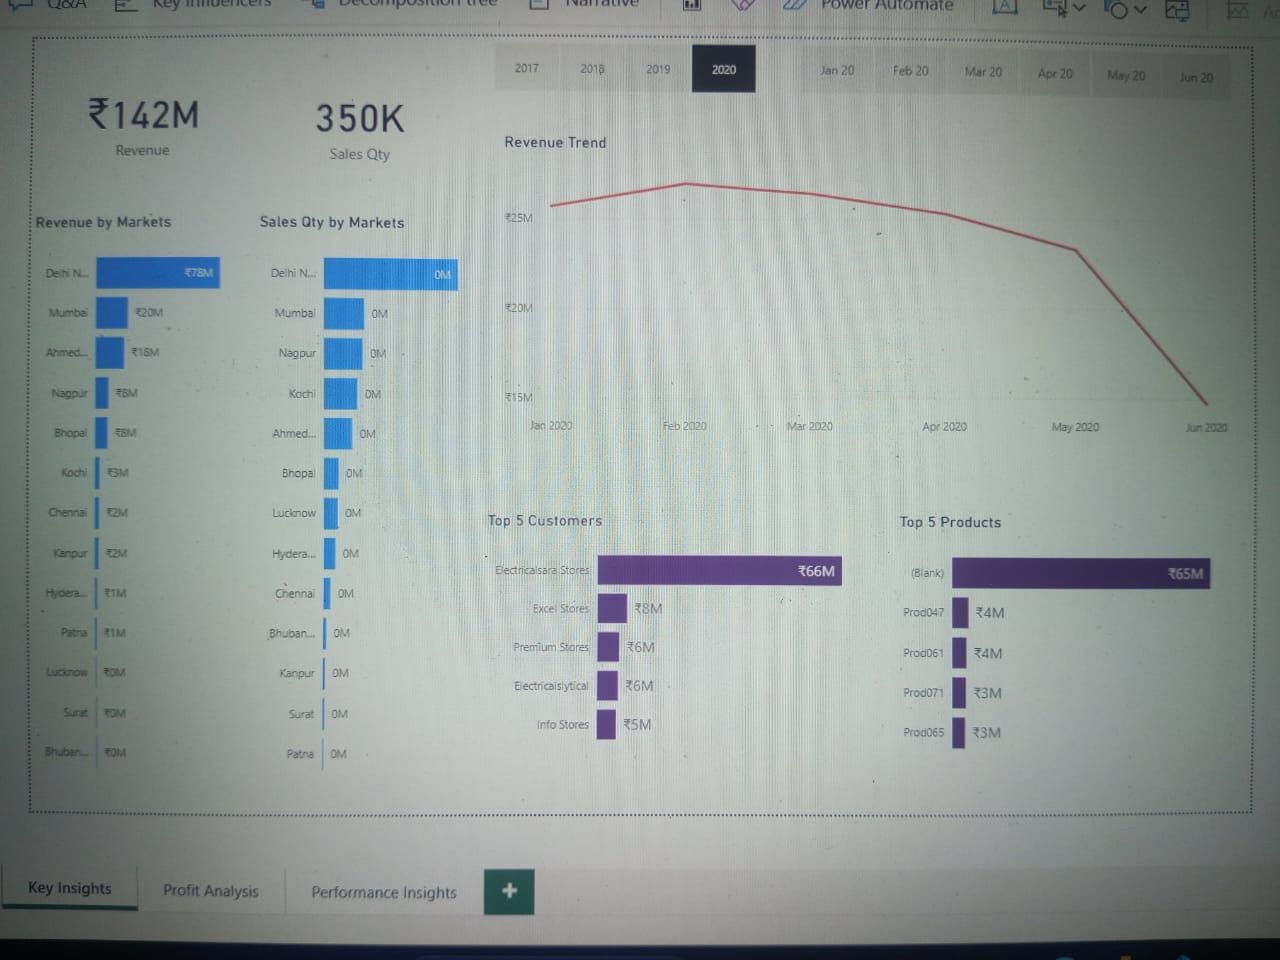

This screenshot's page, from the dashboard's own definition file:
{"tool":"powerbi","page":{"name":"Key Insights","canvas":[1350,850],"ordinal":0},"visuals":[{"type":"card","fields":{"Values":["BaseMeasures (2).Revenue"]},"box":[0,0,247.9,184.6],"z":0},{"type":"card","fields":{"Values":["BaseMeasures (2).Sales Qty"]},"box":[247.9,0,227.9,193.1],"z":1000},{"type":"barChart","title":"Revenue by Markets","fields":{"Y":["BaseMeasures (2).Revenue"],"Category":["sales markets.markets_name"]},"box":[0,193.1,247.9,631.9],"z":2000},{"type":"barChart","title":"Sales Qty by Markets","fields":{"Y":["BaseMeasures (2).Sales Qty"],"Category":["sales markets.markets_name"]},"box":[247.9,193.1,247.9,631.9],"z":3000},{"type":"slicer","fields":{"Values":["sales date.year"]},"box":[483.2,0,335.5,66.5],"z":4000},{"type":"slicer","fields":{"Values":["sales date.cy_date"]},"box":[818.6,0,531.7,66.5],"z":5000},{"type":"barChart","title":"Top 5 Customers","fields":{"Y":["BaseMeasures (2).Revenue"],"Category":["sales customers.custmer_name"]},"box":[495.8,519,446.2,274.3],"z":6000},{"type":"barChart","title":"Top 5 Products","fields":{"Y":["BaseMeasures (2).Revenue"],"Category":["sales products.product_code"]},"box":[950.7,519.2,399.5,282.8],"z":7000},{"type":"lineChart","title":"Revenue Trend","fields":{"Y":["BaseMeasures (2).Revenue"],"Category":["sales date.cy_date"]},"box":[513.8,104.4,809.1,338.6],"z":8000}]}

Visuals, with their boxes on the page's 1350x850 design canvas (x1, y1, x2, y2). These are canvas units, not pixel positions in the 1280x960 screenshot, which may show the page scaled, cropped or inside an application window:
card - BaseMeasures (2).Revenue: region(0, 0, 248, 185)
card - BaseMeasures (2).Sales Qty: region(248, 0, 476, 193)
"Revenue by Markets" barChart: region(0, 193, 248, 825)
"Sales Qty by Markets" barChart: region(248, 193, 496, 825)
slicer - sales date.year: region(483, 0, 819, 66)
slicer - sales date.cy_date: region(819, 0, 1350, 66)
"Top 5 Customers" barChart: region(496, 519, 942, 793)
"Top 5 Products" barChart: region(951, 519, 1350, 802)
"Revenue Trend" lineChart: region(514, 104, 1323, 443)
